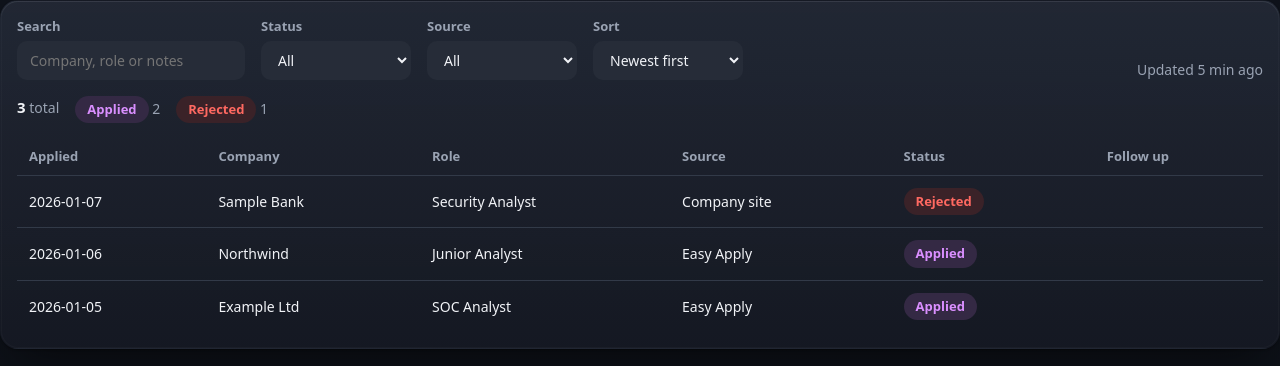
Test: ApplicationsTab › filters by source and searches
expect the text "Example Ltd" is shown: met, box [206,280,420,332]
Select "Easy Apply" in the dropdown labelled "Source" at (502, 60), box [427,40,577,80]
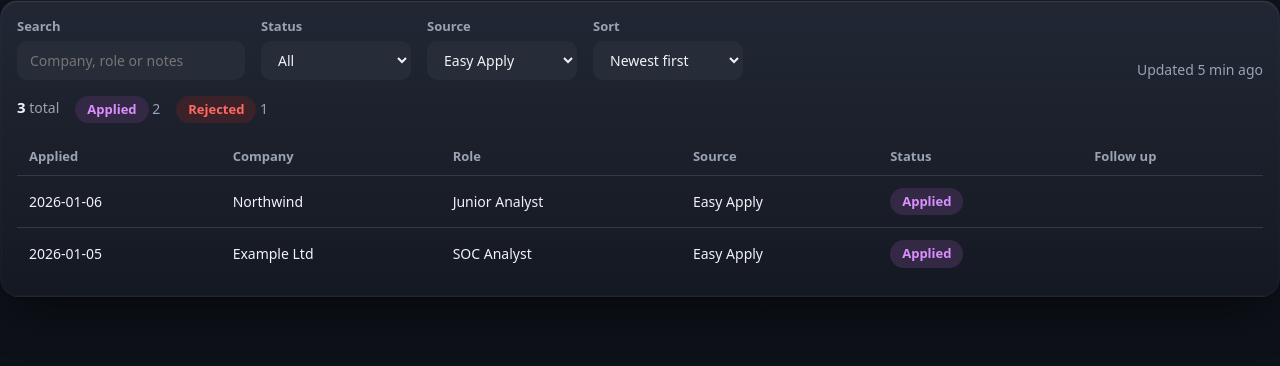
expect the text "Sample Bank" is gone: met
Type "north" into the field labelled "Search" at (131, 60), box [17,40,245,80]
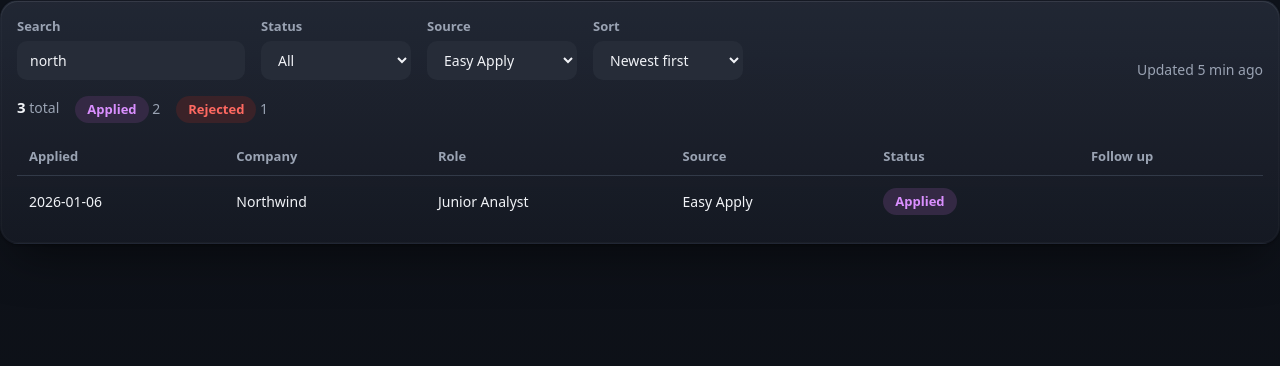
expect the text "Northwind" is shown: met, box [224,175,426,227]
expect the text "Example Ltd" is gone: met
